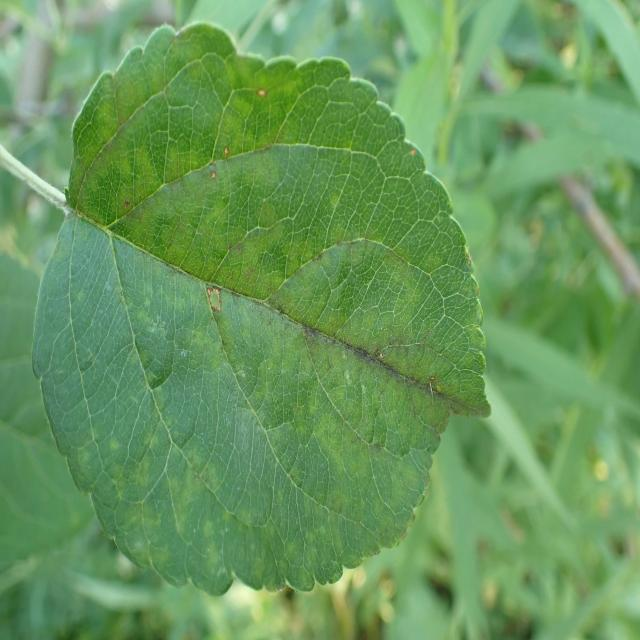scab: (46, 45, 507, 592)
